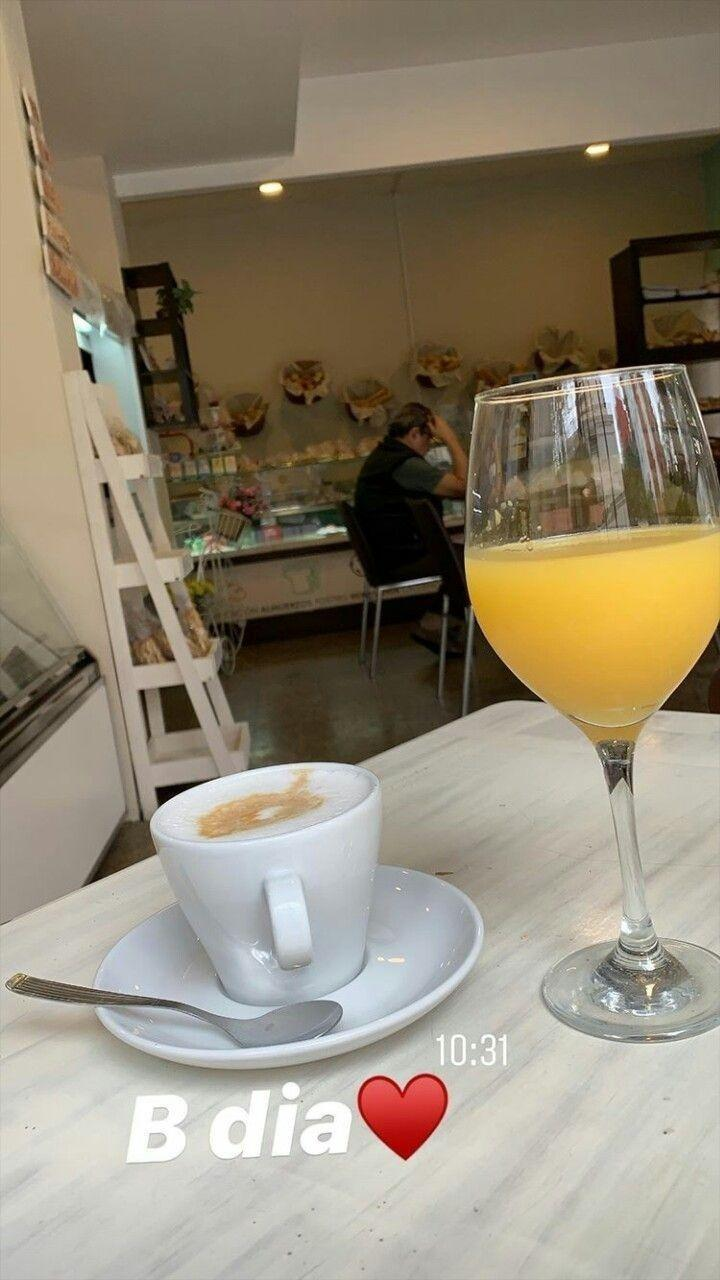cup-handle: (146, 759, 385, 1009)
glass-wine: (460, 365, 718, 1042)
